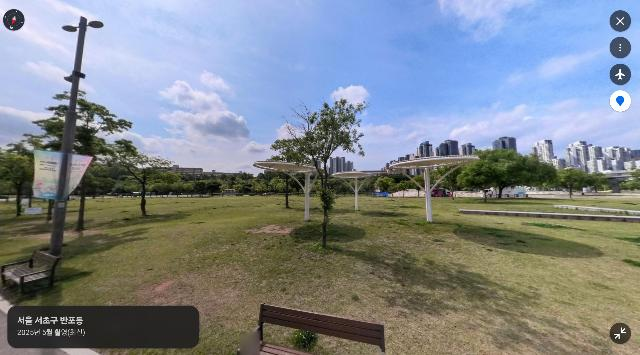other: (16, 90, 134, 232), (267, 97, 371, 250), (447, 146, 563, 203), (98, 140, 176, 217), (0, 141, 37, 218), (544, 164, 596, 200), (271, 168, 307, 209)
